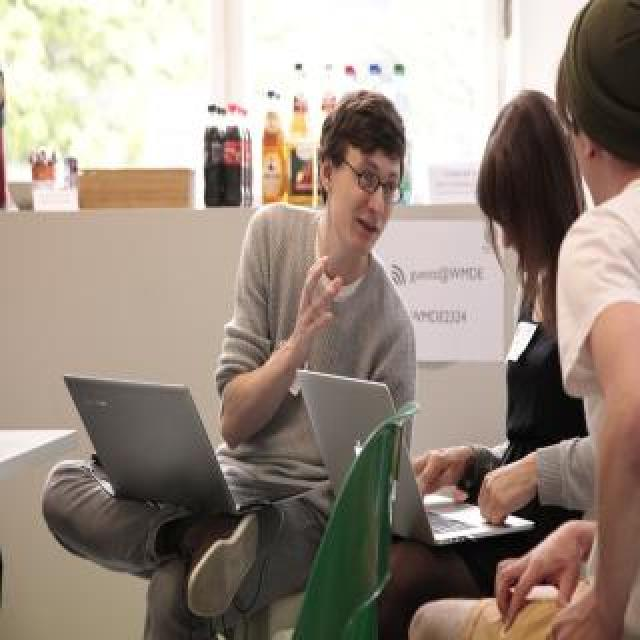laptop_computer: (298, 355, 502, 552), (55, 352, 270, 515)
